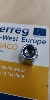Nut: (20, 44, 38, 65)
